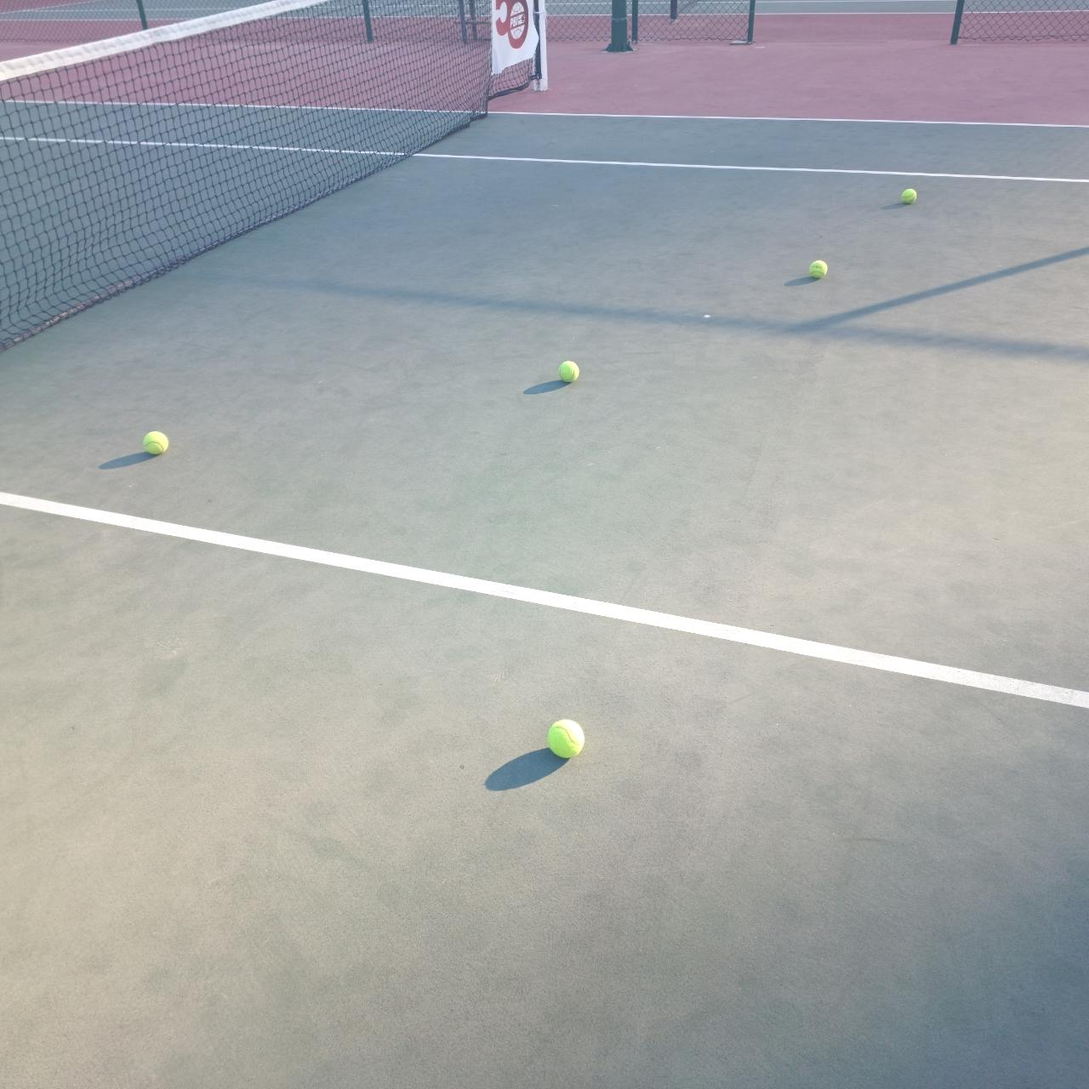tennis-ball: (545, 716, 585, 759), (140, 428, 169, 456), (556, 358, 579, 383), (807, 258, 827, 278), (899, 185, 917, 204)
